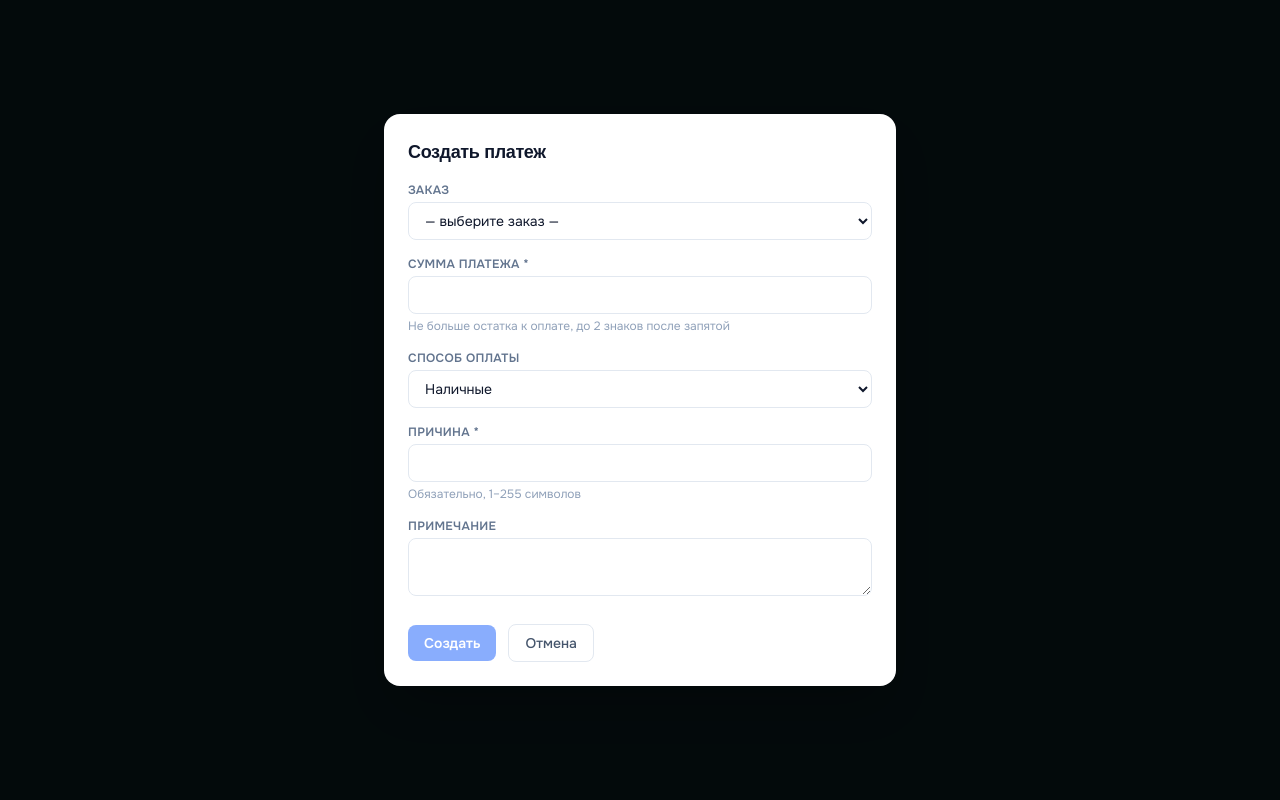
it: CreatePaymentForm — ошибки 403/404/409/422 (§3) › прочая ошибка → generic-сообщение сервера
This screenshot has width=1280, height=800.
Select "MKT-ORD-0001 · 1 250,00 AZN" in the dropdown with test id "create-payment-order-select" at point(640, 221), box [408,202,872,240]
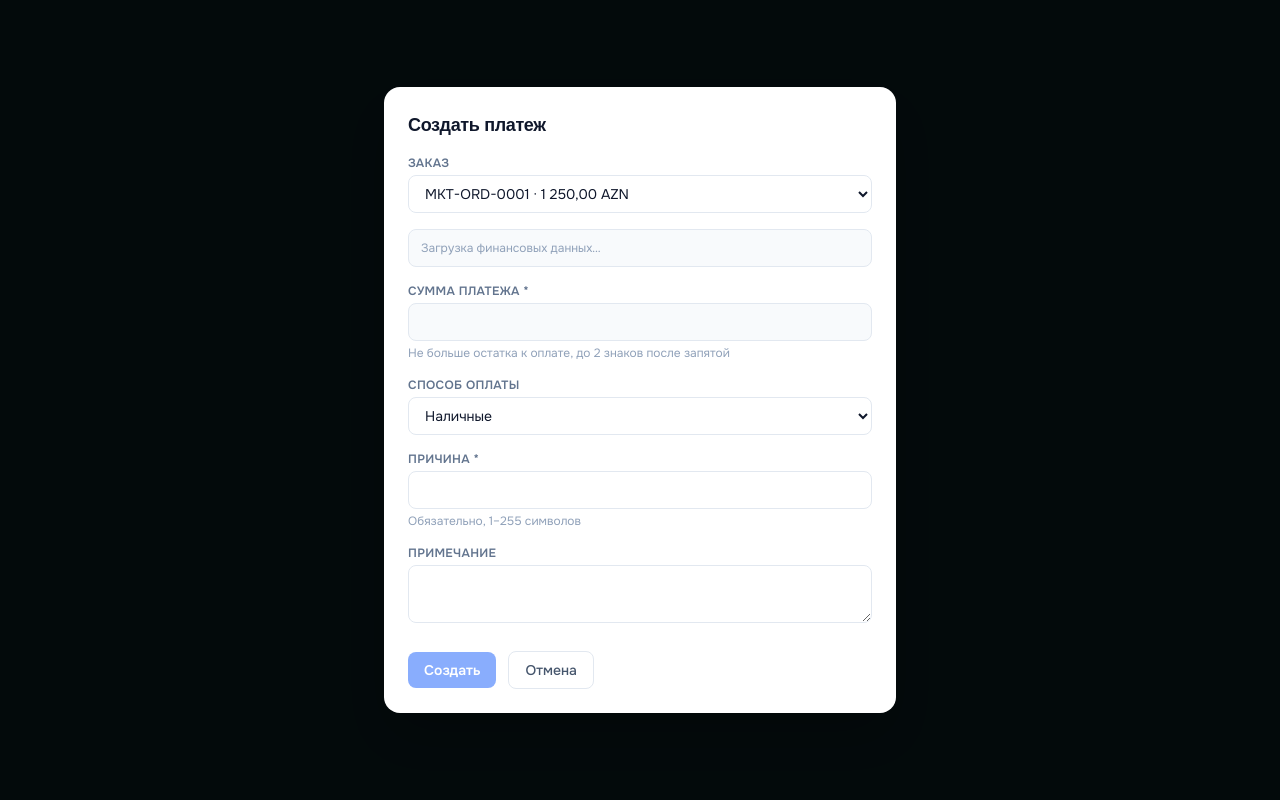
Type "Оплата наличными" into the field with test id "create-payment-reason" at point(640, 490), box [408,471,872,509]
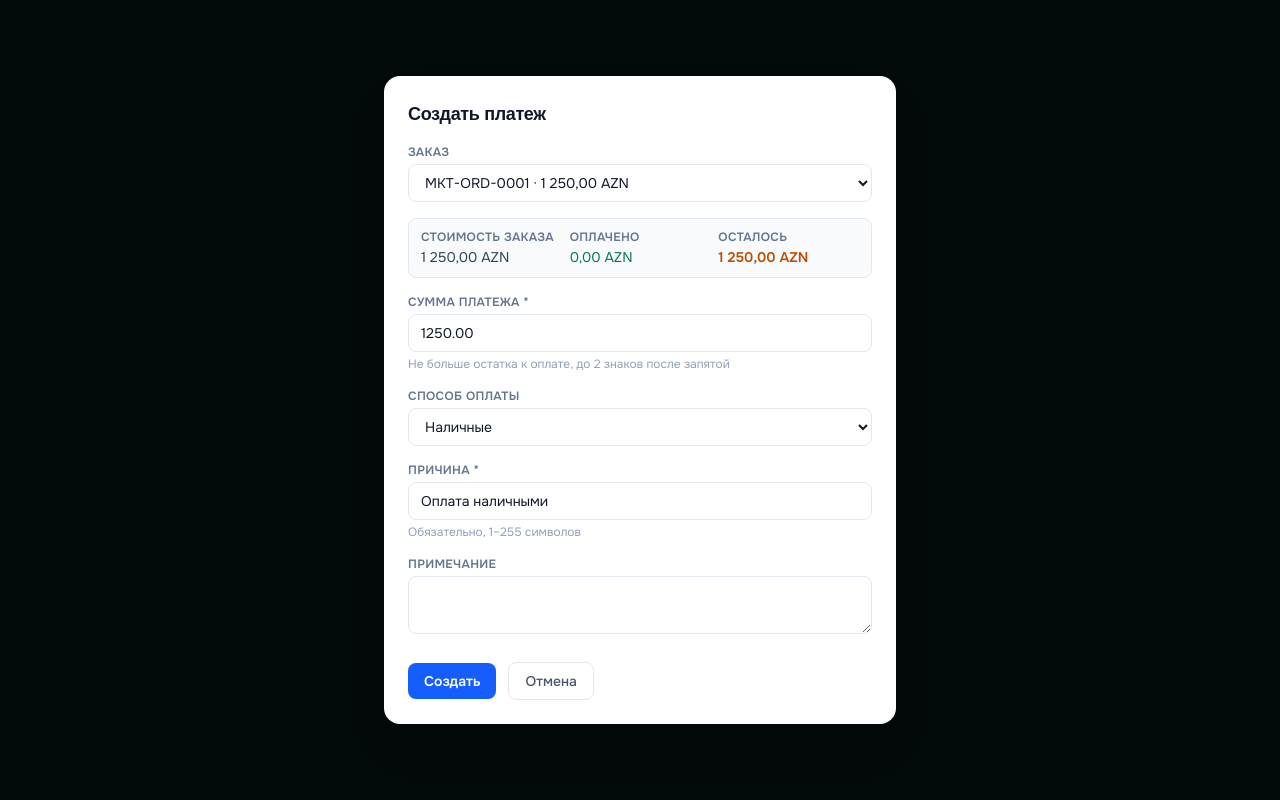
Check: the button with test id "create-payment-submit" is enabled
Click the button with test id "create-payment-submit" at point(452, 681), box [408,663,496,699]
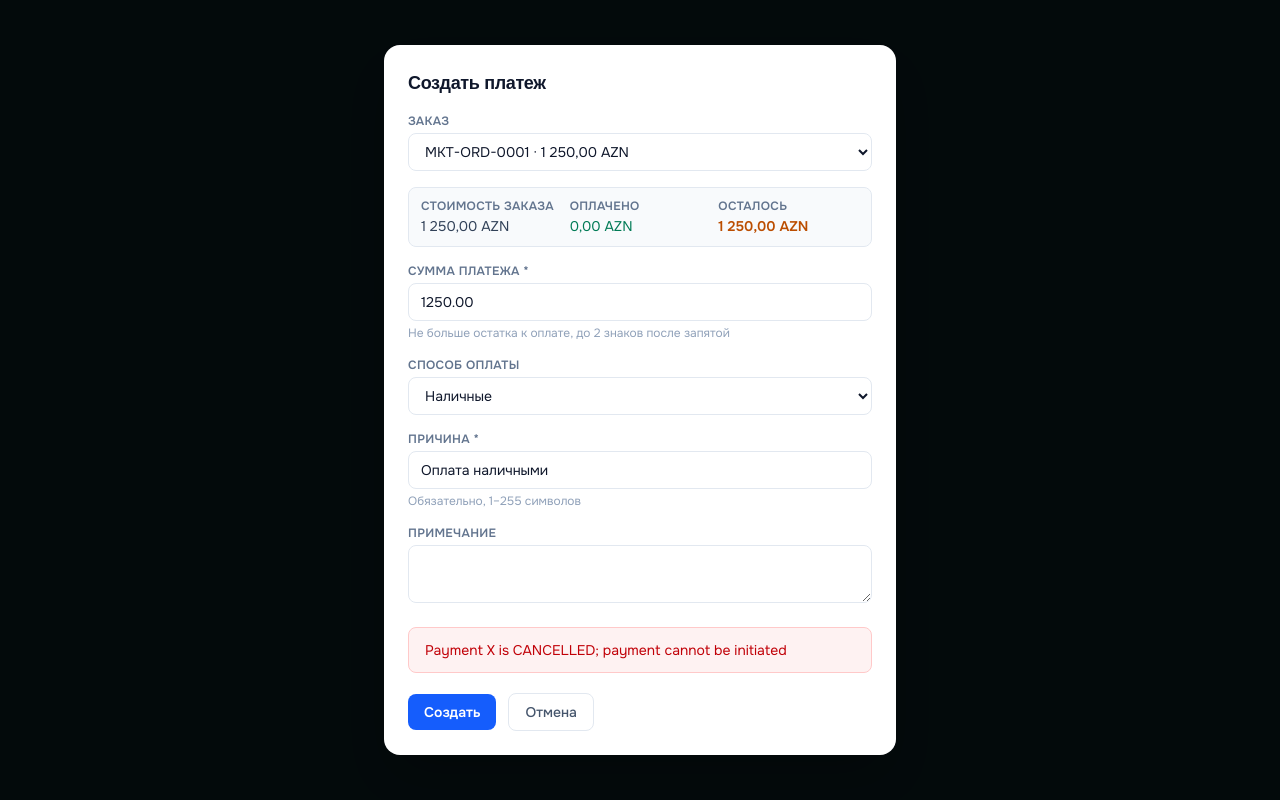
Check: the message reads "Payment X is CANCELLED; payment cannot be initiated", box [425,641,787,659]
